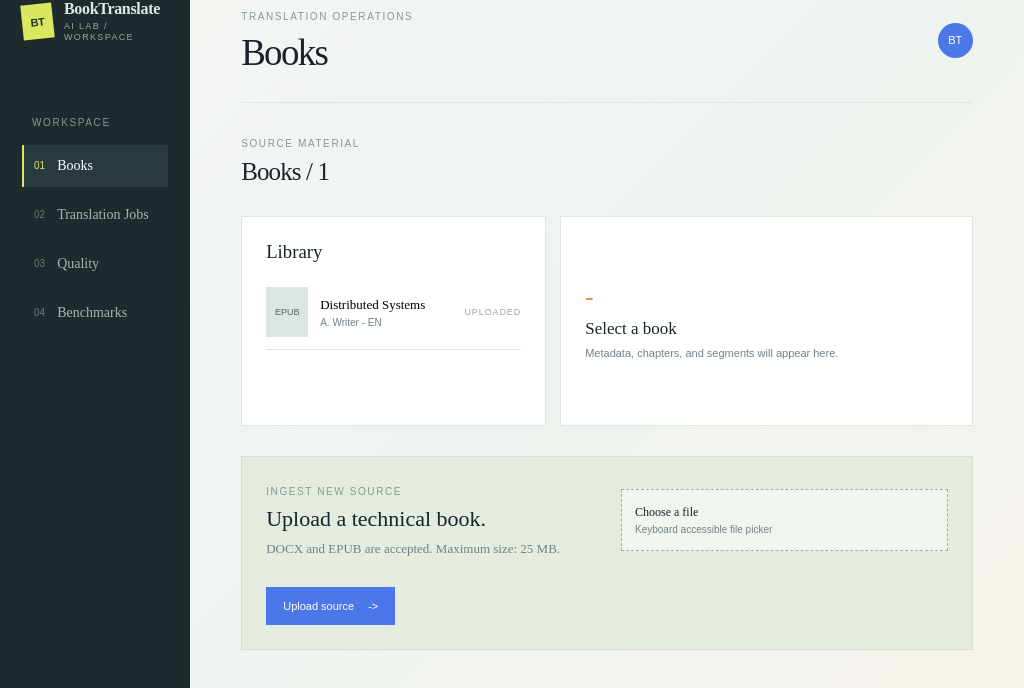
Scenario: ignores a stale save response after the active segment changes
Click the text "Distributed Systems" at (373, 304), box [320,296,425,312]
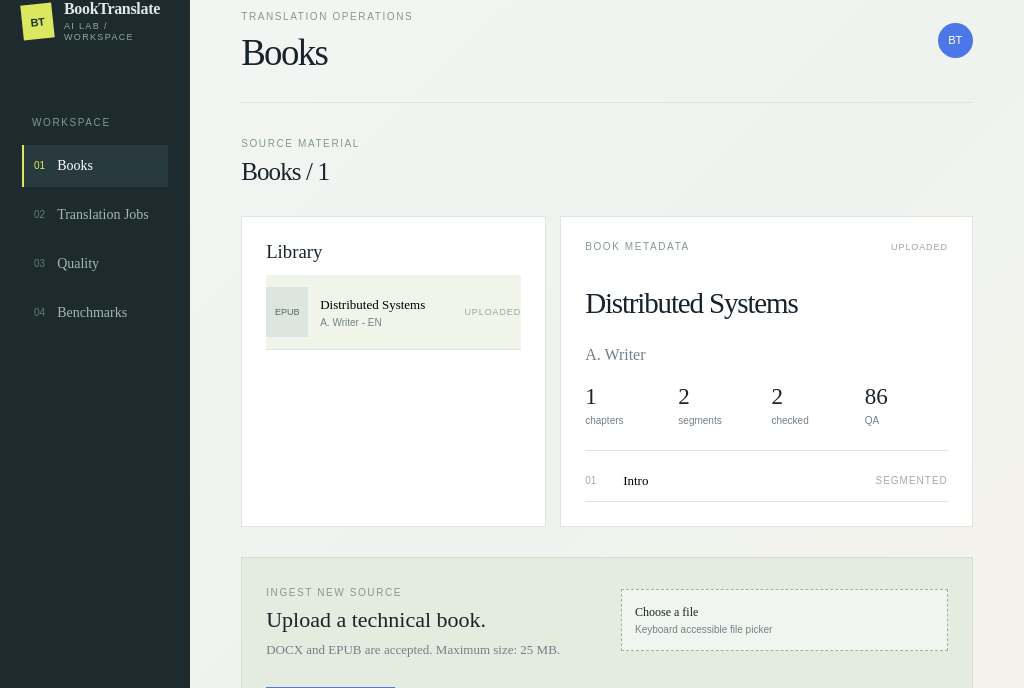
Expected: the text "Intro" is shown
Click the text "Intro" at (636, 480), box [623,473,648,488]
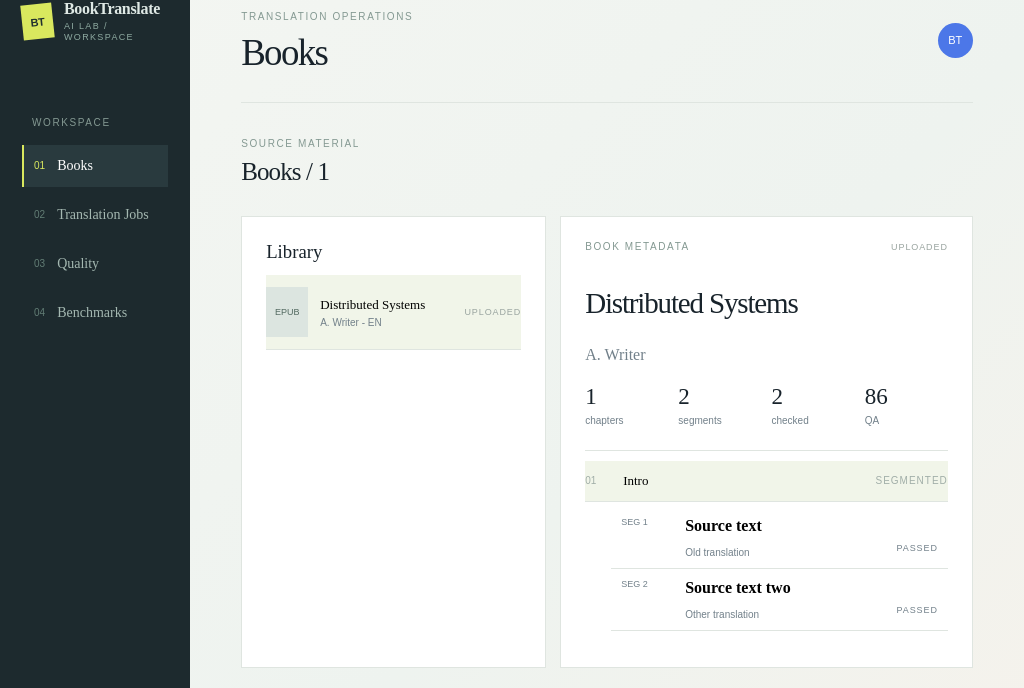
Expected: the text "Source text" is shown
Click the text "Source text" at (724, 525), box [685,517,762,534]
(page scrolled)
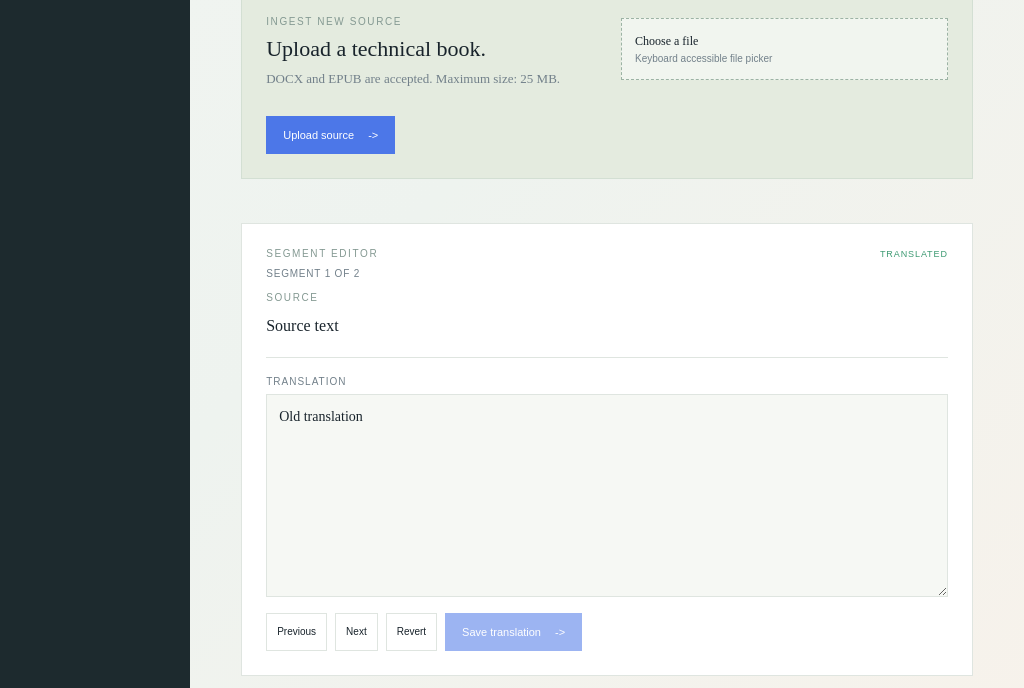
Replace the text in the text box labelled "Translation" with "Updated translation" at (607, 495), box [266,394,948,597]
(page scrolled)
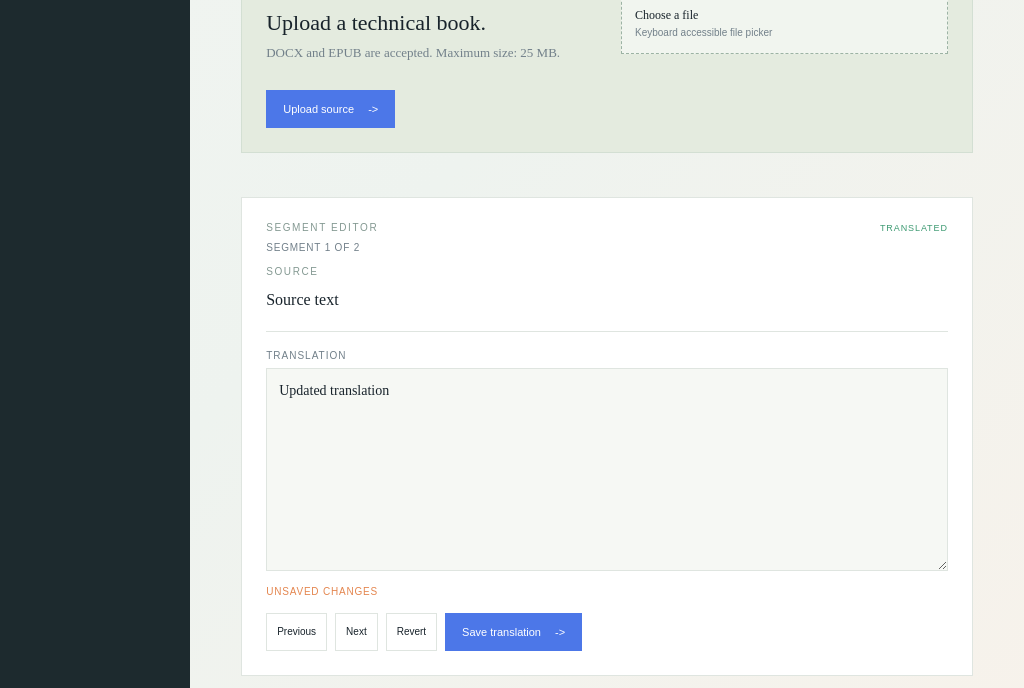
Click the button "Save translation ->" at (514, 632), box [445,613,582,651]
(page scrolled)
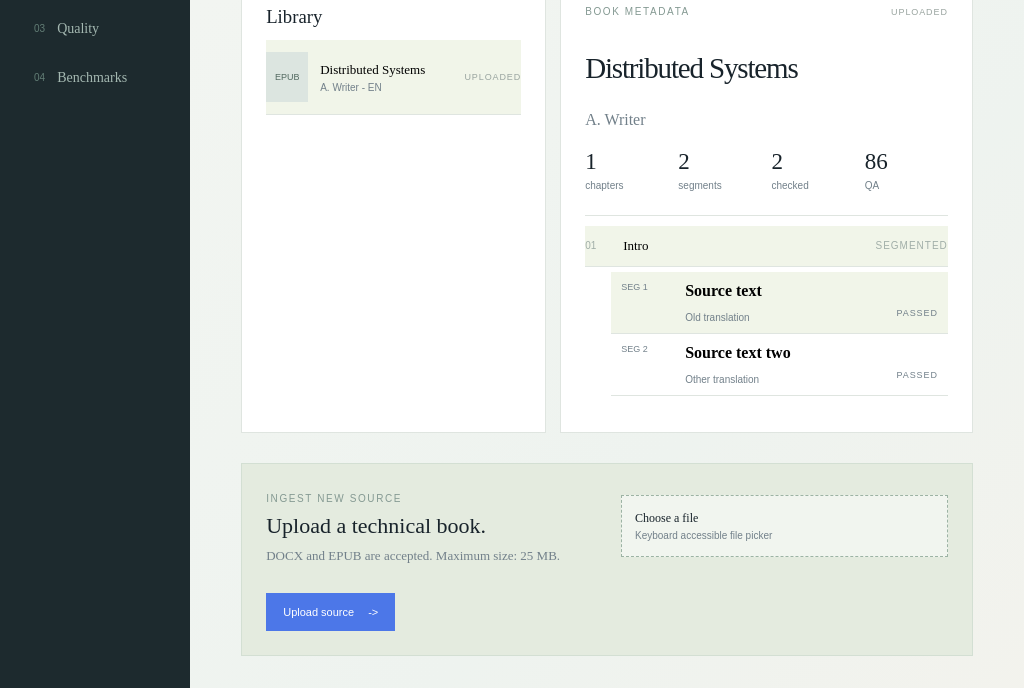
Click the text "Source text two" at (738, 352), box [685,344,791,361]
(page scrolled)
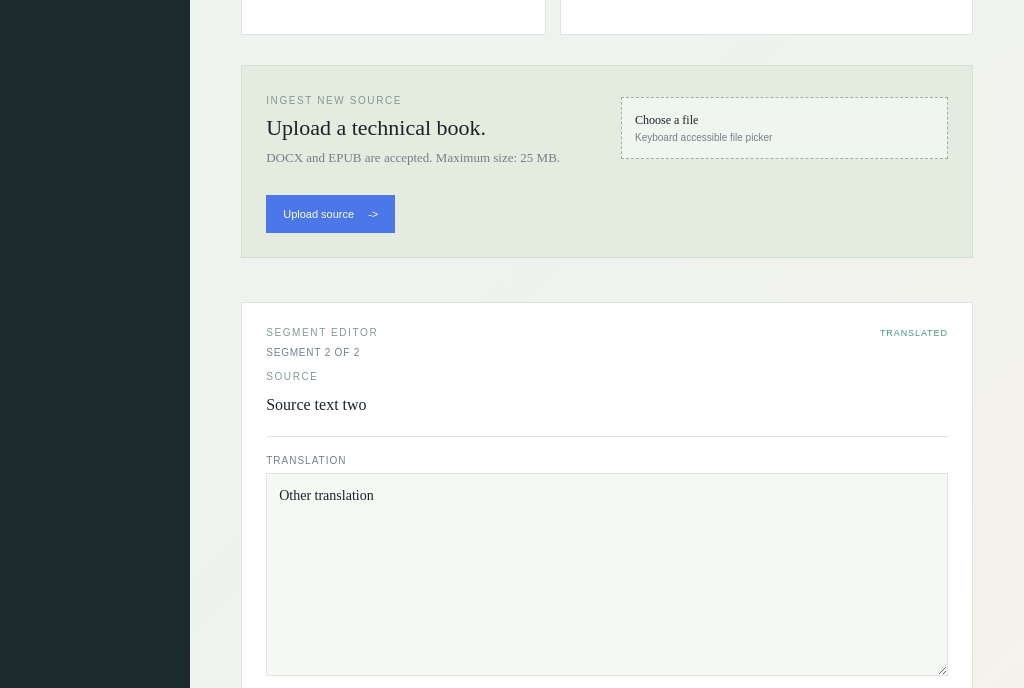
Expected: the text box showing "Other translation" is shown, [266,473,948,676]
Expected: the text "Segment 2 of 2" is shown, [266,347,360,358]
